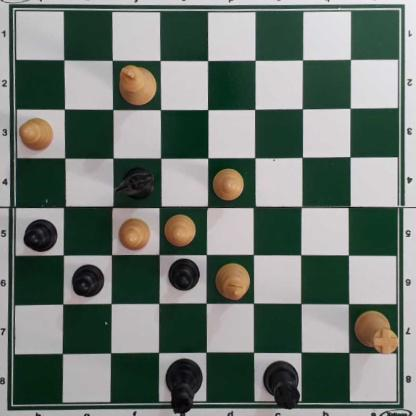black-king: (165, 356, 202, 416)
black-knight: (117, 167, 154, 203)
black-pawn: (24, 219, 59, 253), (71, 265, 105, 300), (168, 260, 201, 294)
black-rook: (262, 364, 303, 408)
white-bishop: (215, 262, 251, 305)
white-king: (117, 65, 158, 108)
white-pawn: (19, 117, 56, 153), (164, 214, 198, 248), (213, 168, 246, 203), (120, 218, 151, 252)
white-rook: (355, 313, 400, 353)
